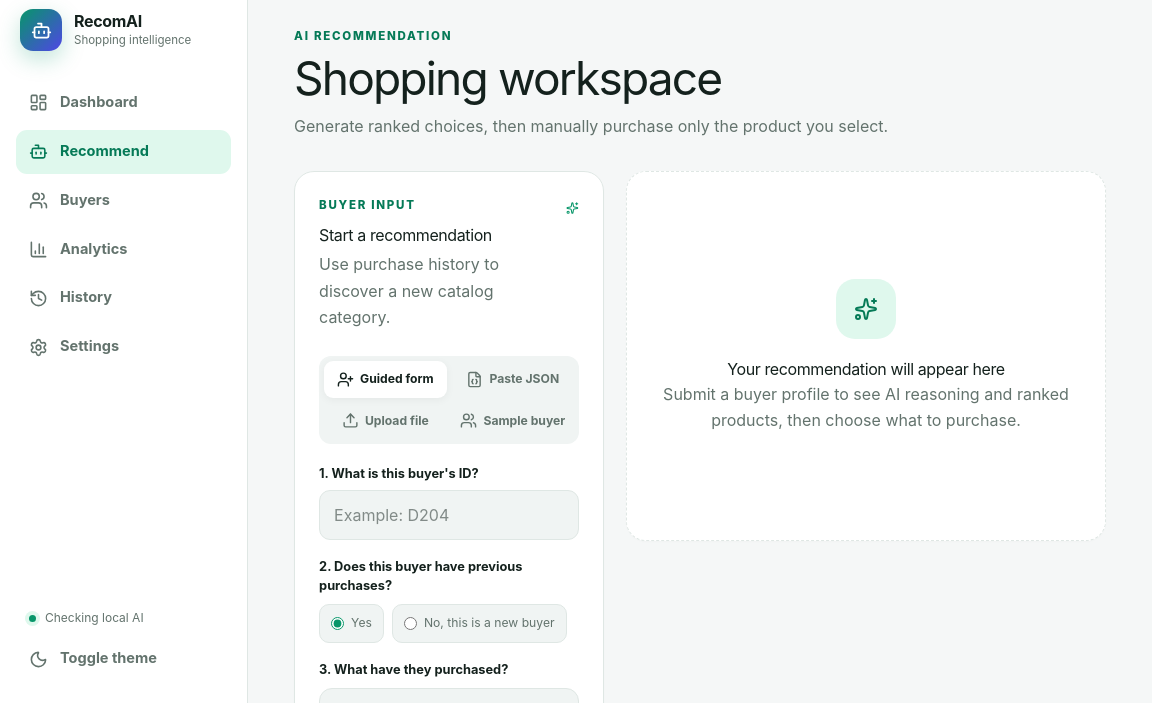
Test: portfolio app › shows the LLM recommendation stages with consistent progress markers
The width and height of the screenshot is (1152, 703).
Step 1. Click the tab "Paste JSON" → (513,379), box [452, 361, 574, 398]
(page scrolled)
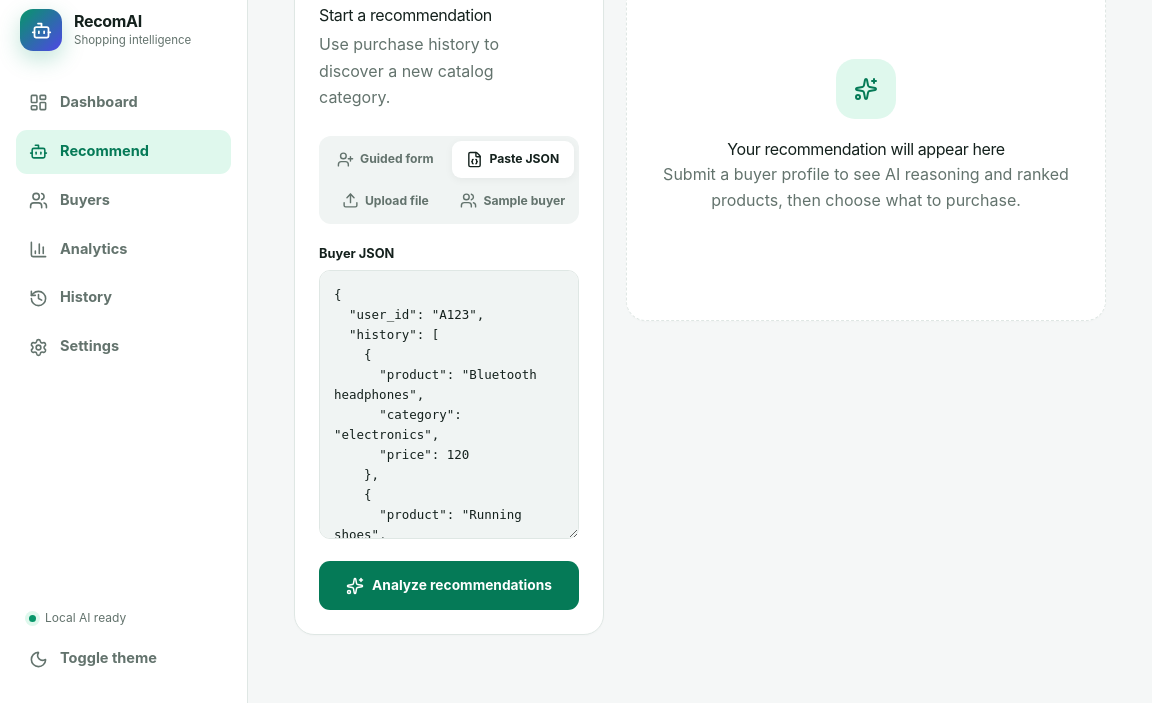
Step 2. Click the button "Analyze recommendations" → (449,586), box [319, 561, 579, 610]
(page scrolled)
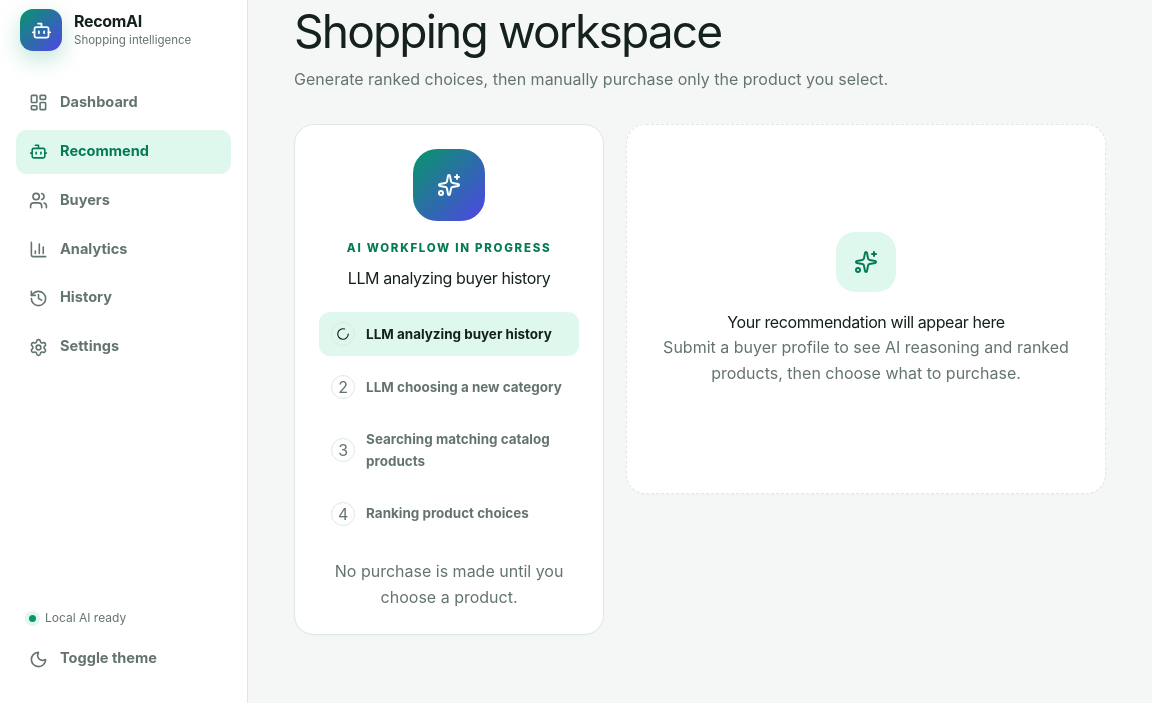
Now the text "AI workflow in progress" shows "LLM analyzing buyer history", box [348, 268, 550, 288]
Now the text "AI workflow in progress" shows "LLM choosing a new category", box [366, 379, 562, 395]
Now the text "AI workflow in progress" shows "Searching matching catalog products", box [366, 431, 550, 469]
